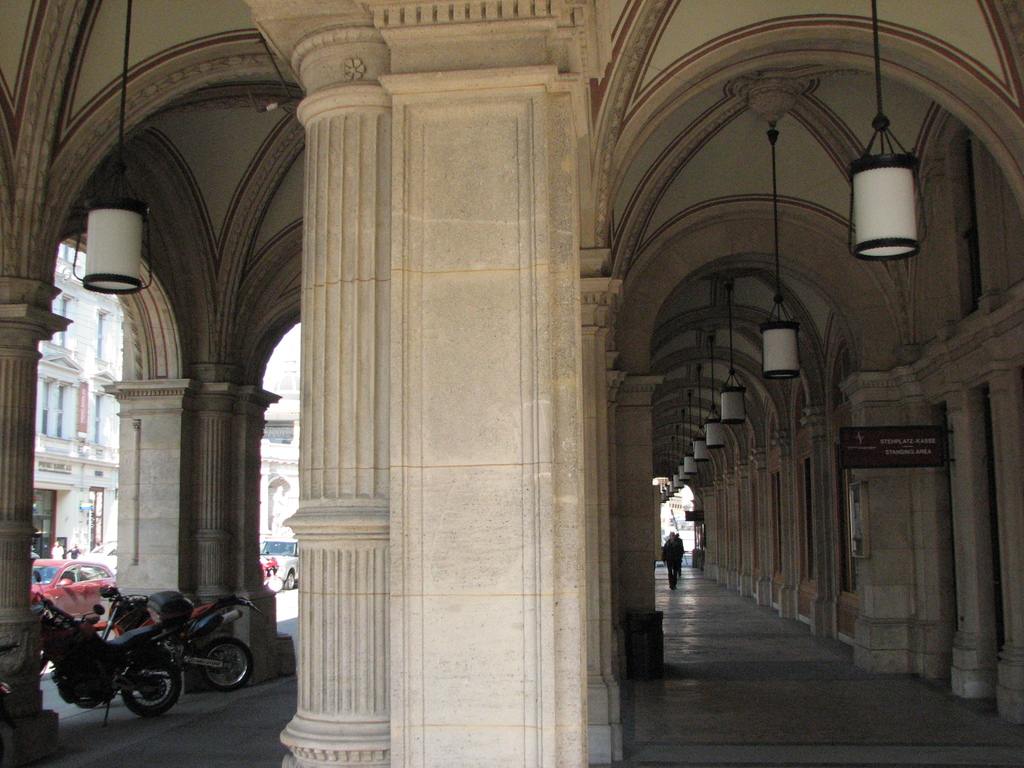Motorcycle: (72, 583, 256, 707)
